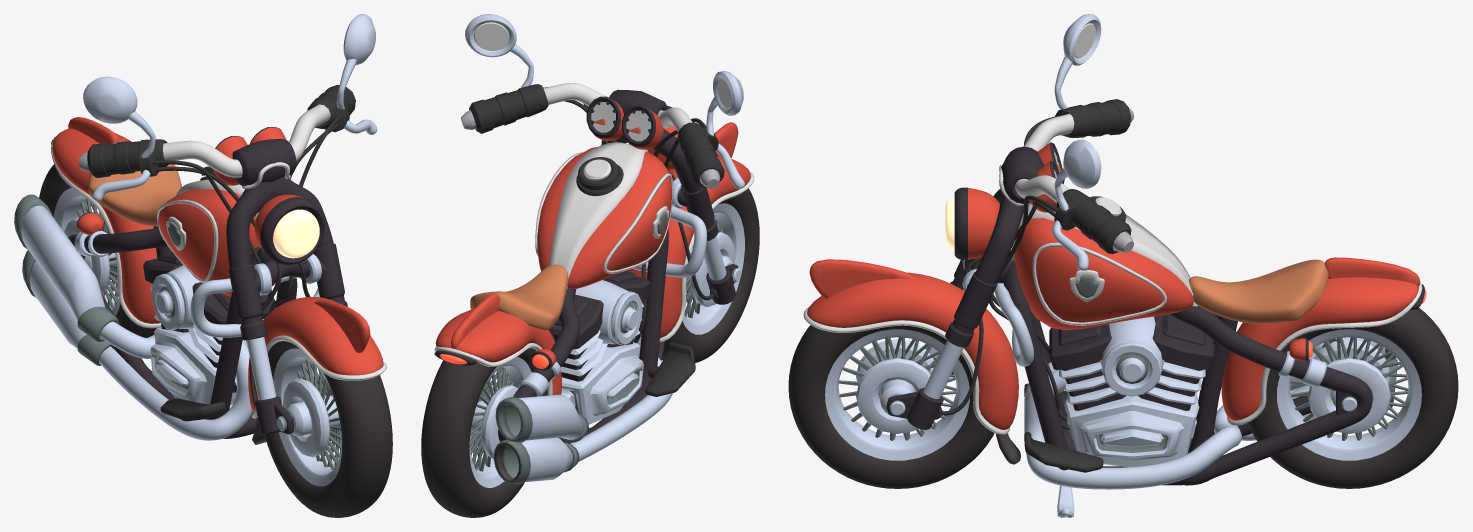
Rendered from Motorcycle.fbx.
The picture shows the model from 3 angles, left to right: view 1: azimuth 30°, elevation 25°; view 2: azimuth 150°, elevation 25°; view 3: azimuth 270°, elevation 25°; orthographic projection. The views are drawn at different scales.
Visible parts, largest first — view 1: Circle.012, Cube.011, Cylinder.001, Circle.014, NurbsPath.013, Plane.010, Circle.011, Cube.013, Circle.015, Cylinder.016, Plane.007, Cylinder.018 (+26 smaller); view 2: Cube.011, Circle.003, Cube.013, Cube.009, Cylinder.018, Plane.010, Circle.012, Cylinder.001, Circle.015, Circle.002, Circle.014, Cylinder.014 (+27 smaller); view 3: Cube.011, Plane.010, Circle.003, Circle.014, Circle.012, Cube.013, Circle.002, Circle.011, Circle.015, NurbsPath.013, Cube.012, Cylinder.018 (+20 smaller).
Boxes of the visible parts, x1,y1,x2,y2 form: Circle.012: (264, 341, 392, 517); Cube.011: (143, 251, 275, 408); Cylinder.001: (14, 194, 118, 341); Circle.014: (273, 348, 341, 486); NurbsPath.013: (99, 321, 252, 440); Plane.010: (68, 226, 297, 438); Circle.011: (248, 296, 383, 411); Cube.013: (158, 189, 274, 296); Circle.015: (52, 128, 160, 323); Cylinder.016: (254, 194, 324, 264); Plane.007: (226, 176, 333, 291); Cylinder.018: (78, 84, 355, 177); Cube.011: (553, 271, 650, 424); Circle.003: (421, 348, 547, 517); Cube.013: (537, 147, 671, 288); Cube.009: (548, 142, 648, 288); Cylinder.018: (460, 84, 724, 188); Plane.010: (498, 229, 668, 443); Circle.012: (662, 188, 759, 362); Cylinder.001: (495, 394, 588, 442); Circle.015: (435, 309, 561, 395); Circle.002: (469, 357, 531, 487); Circle.014: (682, 203, 744, 334); Cylinder.014: (493, 437, 579, 484); Cube.011: (1049, 314, 1214, 467); Plane.010: (1003, 260, 1372, 485); Circle.003: (1247, 308, 1458, 488); Circle.014: (825, 329, 969, 460); Circle.012: (788, 325, 994, 488); Cube.013: (1014, 218, 1193, 330); Circle.002: (1277, 329, 1421, 460); Circle.011: (807, 272, 1018, 429); Circle.015: (1221, 277, 1418, 420); NurbsPath.013: (1024, 362, 1256, 489); Cube.012: (1189, 259, 1328, 323); Cylinder.018: (1054, 99, 1133, 253).
Bounding box in the file's own units: 8.44 × 11.02 × 16.47.
